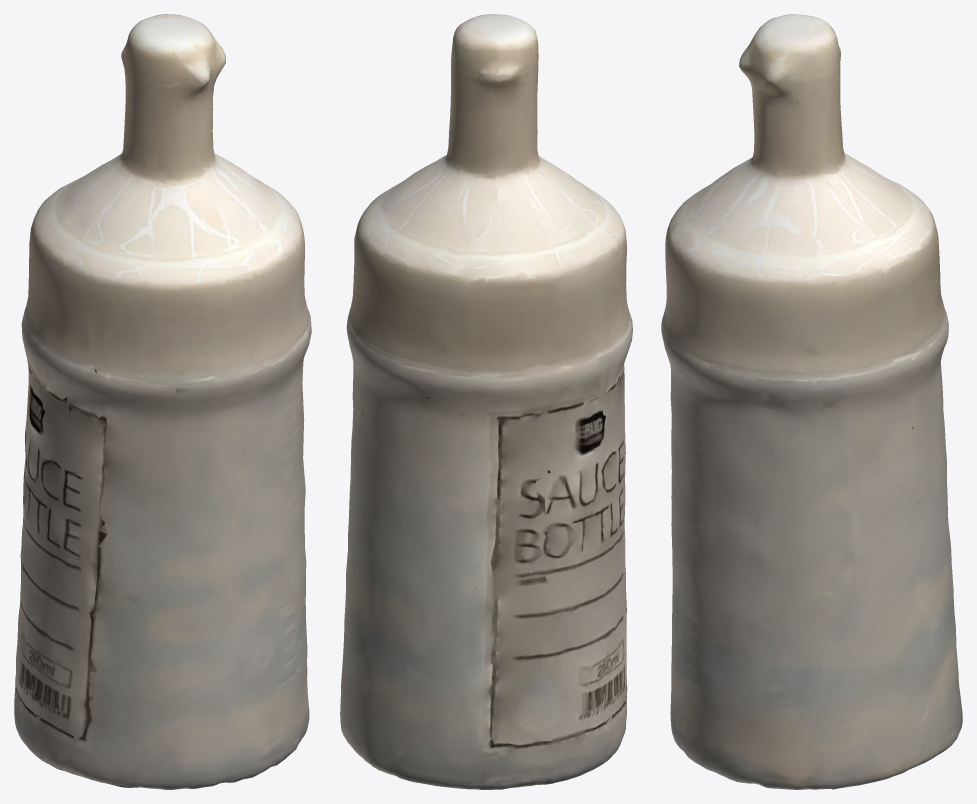
The model's file is SauceBottle.obj.
The picture shows the model from 3 angles, left to right: view 1: azimuth 30°, elevation 25°; view 2: azimuth 150°, elevation 25°; view 3: azimuth 270°, elevation 25°; orthographic projection.
Bounding box in the file's own units: 0.0604 × 0.1631 × 0.0629.
Materials: 1 (1 with a texture image).
